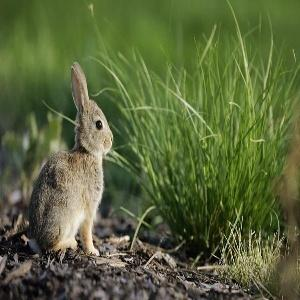rabbit: (26, 62, 114, 260)
